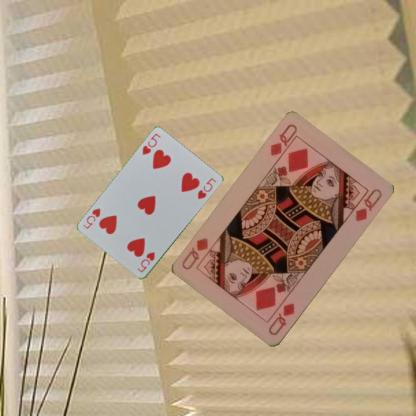5h: (140, 131, 162, 157), (135, 249, 156, 274)
Qd: (268, 121, 298, 165), (266, 300, 296, 338)
